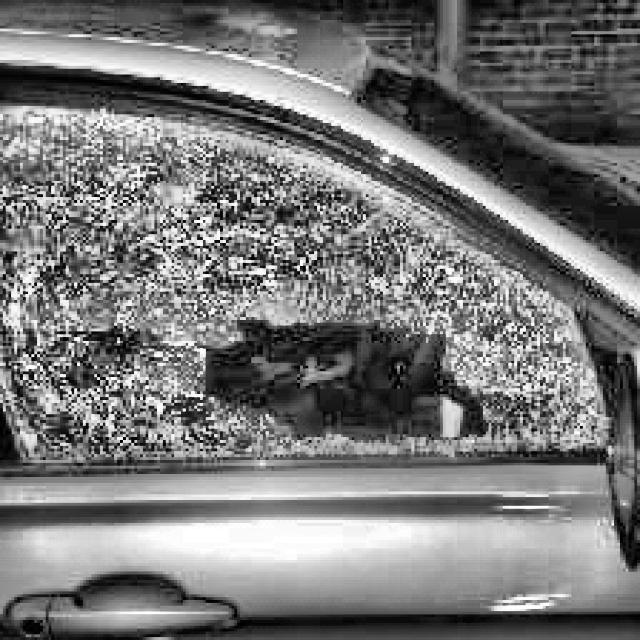glass_shatter: (197, 309, 508, 452)
